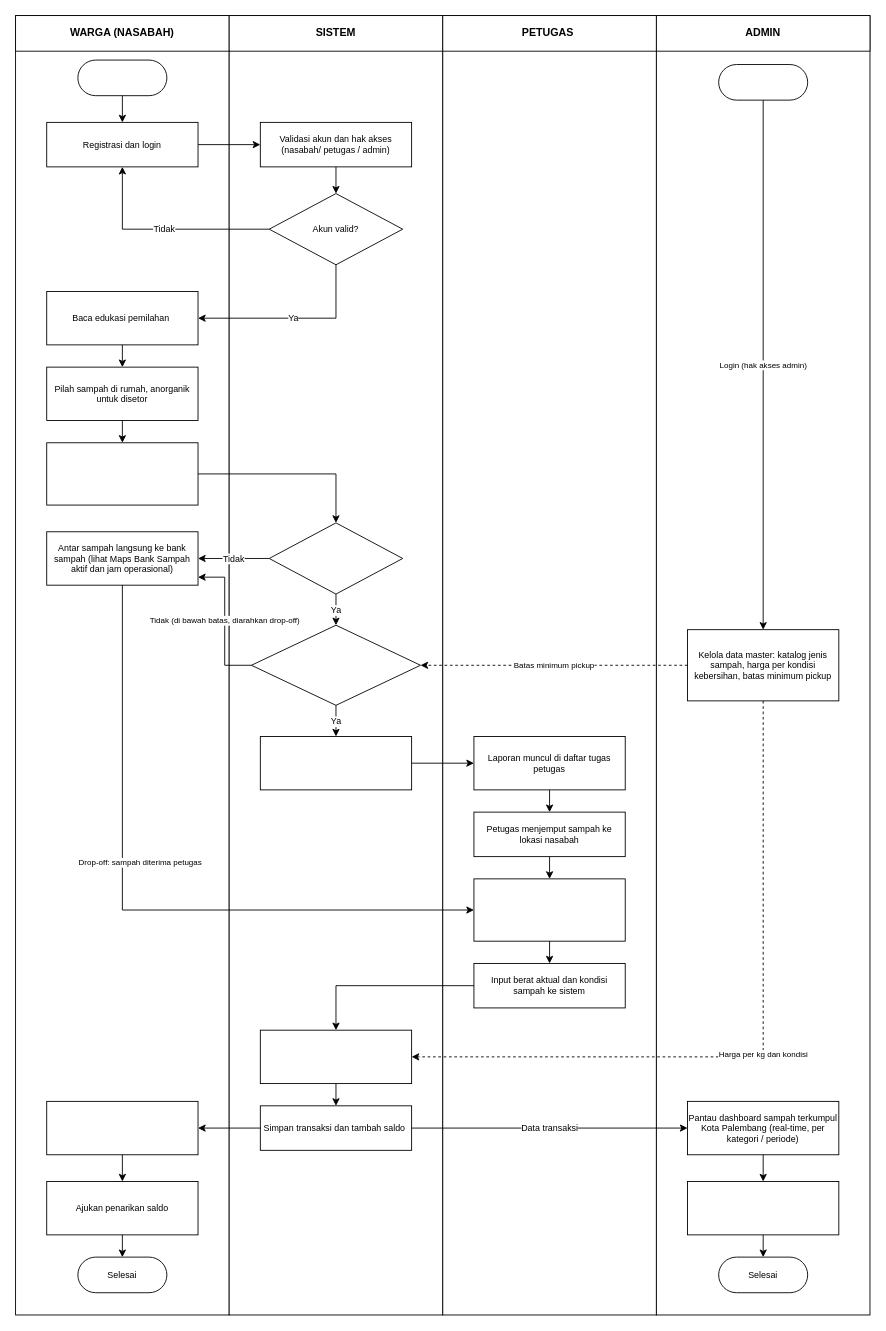
This 886x1331 diagram has some shape labels left out. Here are the shapes that lost their labels. From the top down, the box of each, then its label:
(77, 59, 167, 96): Mulai
(718, 64, 808, 100): Mulai (Admin)
(46, 442, 198, 505): Buat laporan setoran sampah dan pilih metode (pickup / drop-off)
(268, 522, 403, 594): Metode pickup?
(251, 624, 421, 705): Estimasi berat ≥ batas minimum pickup?
(259, 736, 412, 790): Tentukan titik penjemputan di peta dan simpan laporan pickup
(473, 878, 625, 941): Verifikasi kondisi sampah (bersih / kotor / tercampur air) dan timbang manual
(259, 1029, 412, 1084): Hitung saldo otomatis: berat aktual × harga per kg sesuai jenis dan kondisi
(46, 1100, 198, 1155): Lihat riwayat setoran, total berat dan saldo (akses dengan PIN)
(687, 1181, 839, 1235): Laporan distribusi
